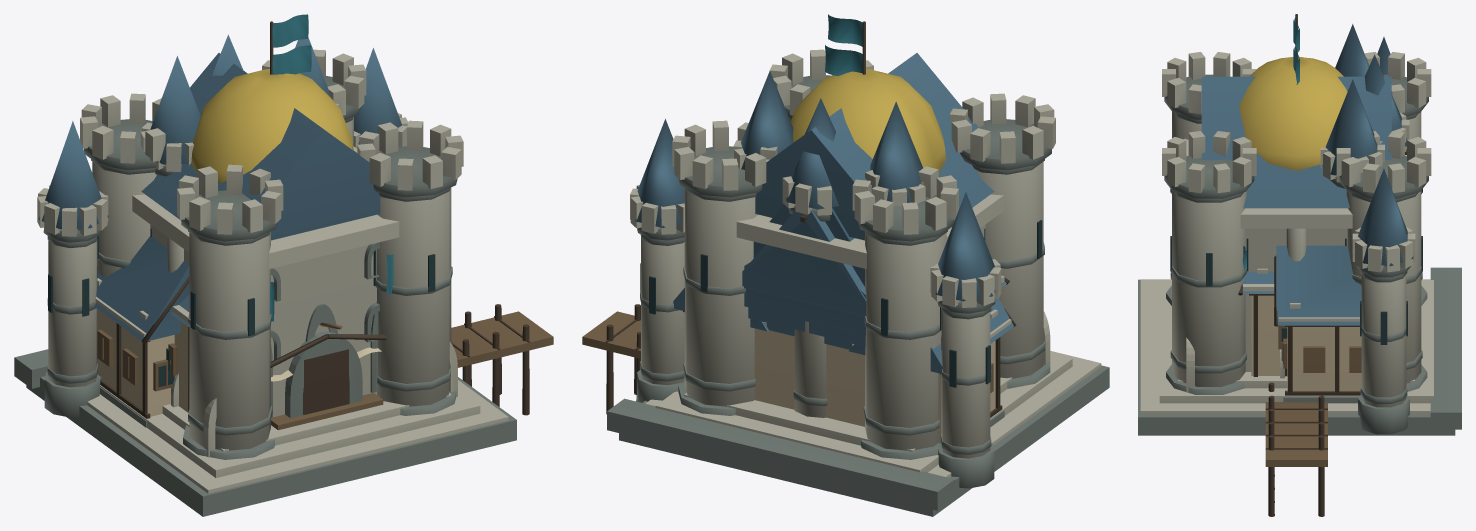
Rendered from frontier-low-q9Ou8A3S.glb.
3 renders of one model, left to right at view 1: azimuth 30°, elevation 25°; view 2: azimuth 150°, elevation 25°; view 3: azimuth 270°, elevation 25°, orthographic. The views are drawn at different scales.
Visible parts, largest first — view 1: part_167, part_191, part_166, part_190, part_169, part_193, part_30, part_466, part_26, part_24, part_182, part_3 (+13 smaller); view 2: part_167, part_24, part_30, part_191, part_166, part_182, part_169, part_193, part_190, part_181, part_26, part_644 (+14 smaller); view 3: part_167, part_191, part_193, part_169, part_24, part_30, part_166, part_466, part_190, part_3, part_196, part_182 (+15 smaller).
Boxes of the visible parts, left/top/right/bottom form: part_167: left=80, top=49, right=463, bottom=450; part_191: left=87, top=146, right=508, bottom=493; part_166: left=84, top=75, right=457, bottom=459; part_190: left=26, top=301, right=516, bottom=516; part_169: left=141, top=53, right=380, bottom=240; part_193: left=191, top=69, right=353, bottom=182; part_30: left=37, top=113, right=408, bottom=387; part_466: left=94, top=236, right=189, bottom=340; part_26: left=38, top=48, right=401, bottom=229; part_24: left=14, top=228, right=101, bottom=417; part_182: left=150, top=37, right=331, bottom=164; part_3: left=97, top=309, right=174, bottom=416; part_167: left=672, top=49, right=1055, bottom=450; part_24: left=607, top=209, right=995, bottom=510; part_30: left=630, top=184, right=1001, bottom=458; part_191: left=645, top=194, right=1101, bottom=477; part_166: left=678, top=75, right=1051, bottom=459; part_182: left=741, top=71, right=922, bottom=317; part_169: left=755, top=53, right=994, bottom=240; part_193: left=790, top=69, right=946, bottom=173; part_190: left=619, top=365, right=1109, bottom=516; part_181: left=754, top=328, right=864, bottom=426; part_26: left=635, top=119, right=1001, bottom=301; part_644: left=742, top=208, right=866, bottom=317; part_167: left=1162, top=52, right=1431, bottom=386; part_191: left=1140, top=138, right=1433, bottom=414; part_193: left=1239, top=56, right=1347, bottom=170; part_169: left=1201, top=76, right=1391, bottom=208; part_24: left=1357, top=266, right=1461, bottom=434; part_30: left=1352, top=227, right=1415, bottom=407; part_166: left=1164, top=74, right=1428, bottom=394; part_466: left=1276, top=245, right=1361, bottom=325; part_190: left=1138, top=279, right=1455, bottom=435; part_3: left=1287, top=327, right=1361, bottom=391; part_196: left=1265, top=402, right=1327, bottom=466; part_182: left=1322, top=24, right=1377, bottom=175.
Size of the model in its own units: 14.82 by 14 by 10.39.
